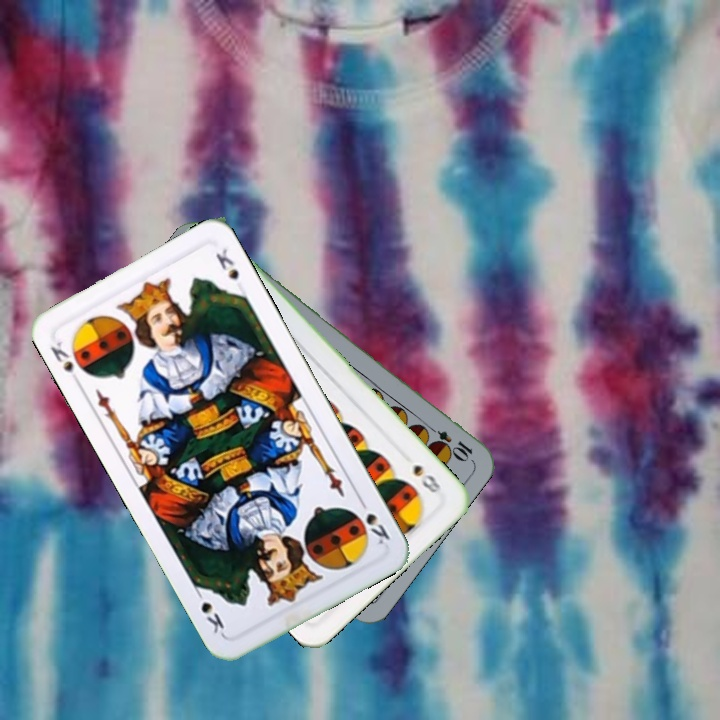E10: (421, 420, 475, 463)
S8: (409, 460, 444, 496)
SK: (355, 494, 393, 548), (46, 337, 76, 375)
